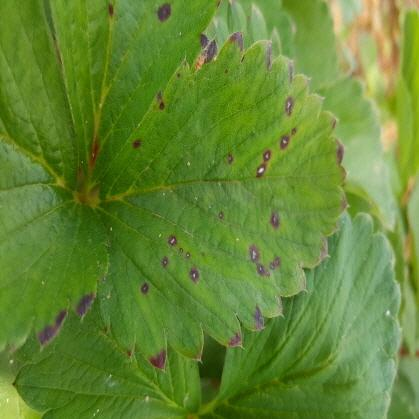Leaf Spot: (88, 30, 350, 372), (49, 0, 222, 190)
